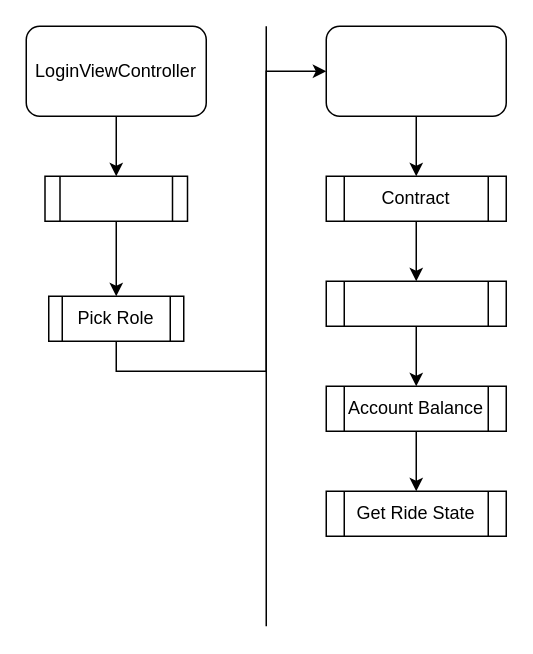
Some shapes in this 533 by 654 pixel diagram are drawn without their labels. The centre of each missing label's shape, as x and y in pixels:
"Create Wallet" belongs at [116,198].
"RideViewController" belongs at [415,70].
"Subscription To Events" belongs at [415,303].
